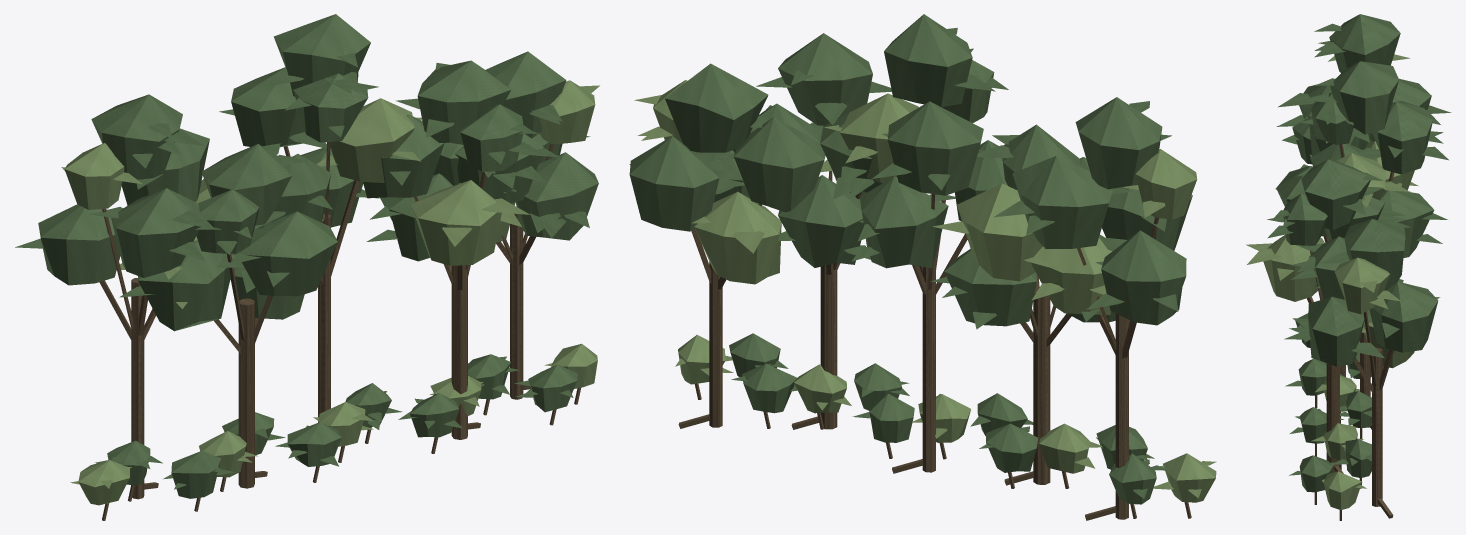
The model's file is BackdropTreeGroup.fbx.
3 renders of one model, left to right at view 1: azimuth 30°, elevation 25°; view 2: azimuth 150°, elevation 25°; view 3: azimuth 270°, elevation 25°, orthographic. The views are drawn at different scales.
Visible parts, largest first — view 1: BackdropTreeGroup; view 2: BackdropTreeGroup; view 3: BackdropTreeGroup.
Boxes of the visible parts, <box> form: BackdropTreeGroup: <box>15,14,599,520</box>; BackdropTreeGroup: <box>629,14,1216,520</box>; BackdropTreeGroup: <box>1246,14,1451,520</box>.
Bounding box in the file's own units: 1341 × 1014 × 515.
